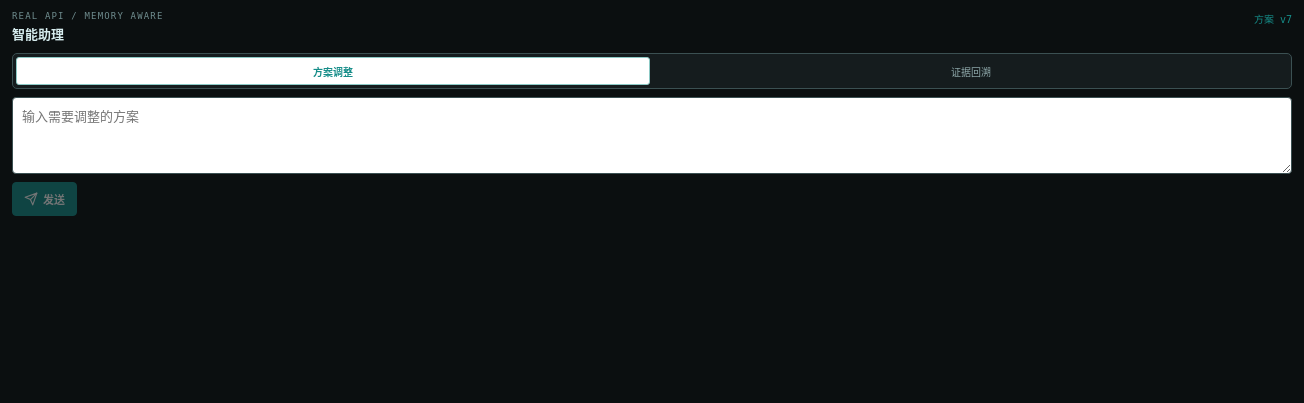
it: SmartAssistantPanel › renders an evidence answer as read-only with verified memory sources
Click the button "证据回溯" at {"x": 971, "y": 71}, box [654,57,1288,85]
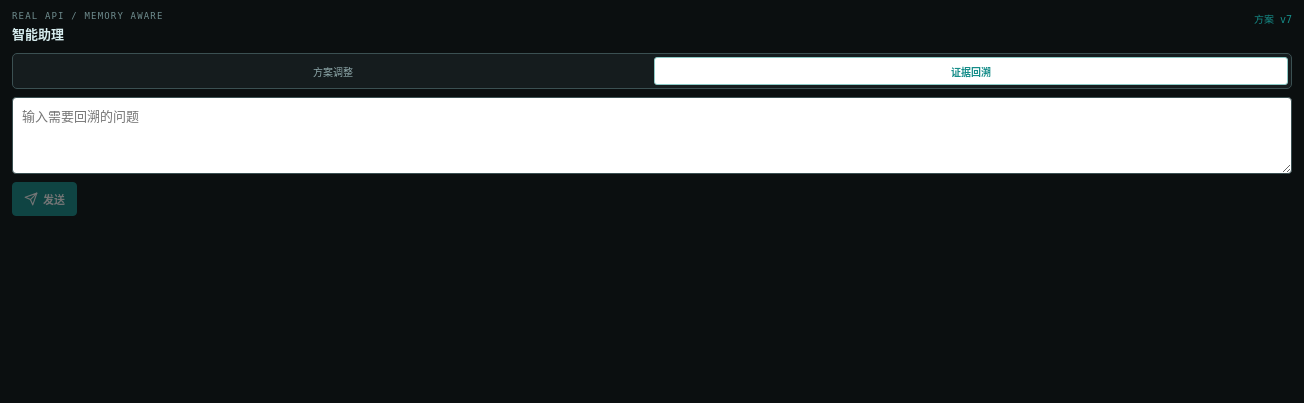
Type "为什么保持方案？" into the text box named "智能助理输入" at {"x": 652, "y": 135}, box [12,97,1292,174]
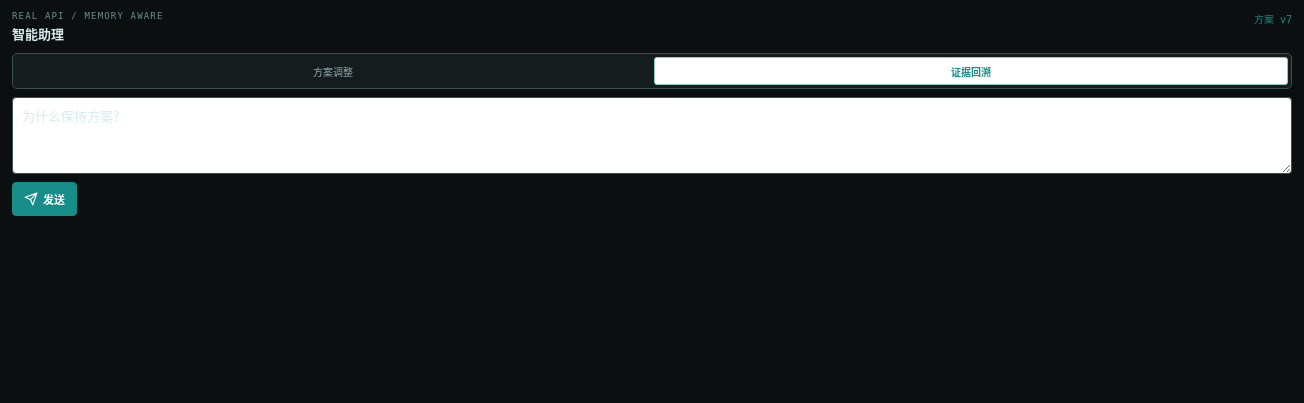
Click the button "发送" at {"x": 44, "y": 198}, box [12,182,77,216]
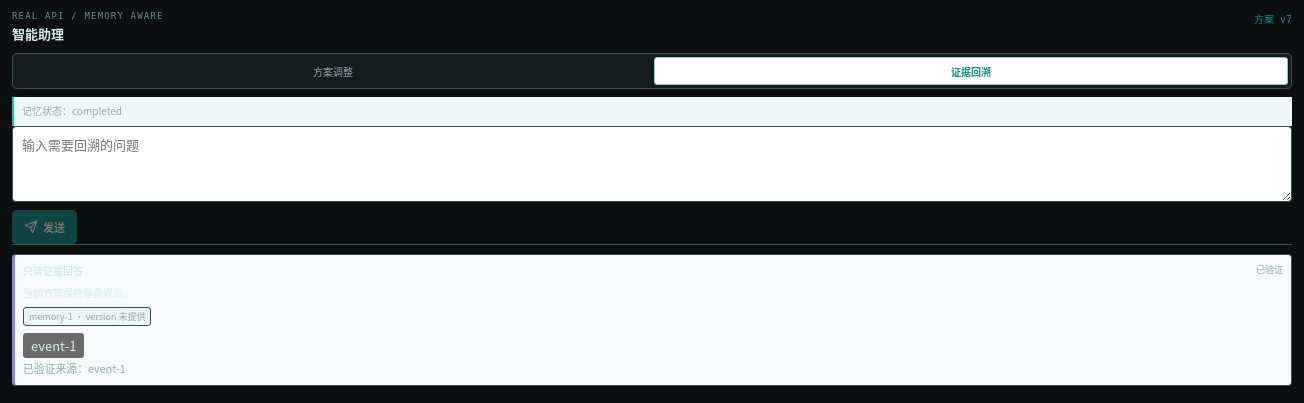
Expected: the text "当前方案保持重叠观测。" is shown, [23,285,133,300]
Expected: the text "只读证据回答" is shown, [23,263,83,278]
Expected: the text "memory-1 · version 未提供" is shown, [23,307,152,326]
